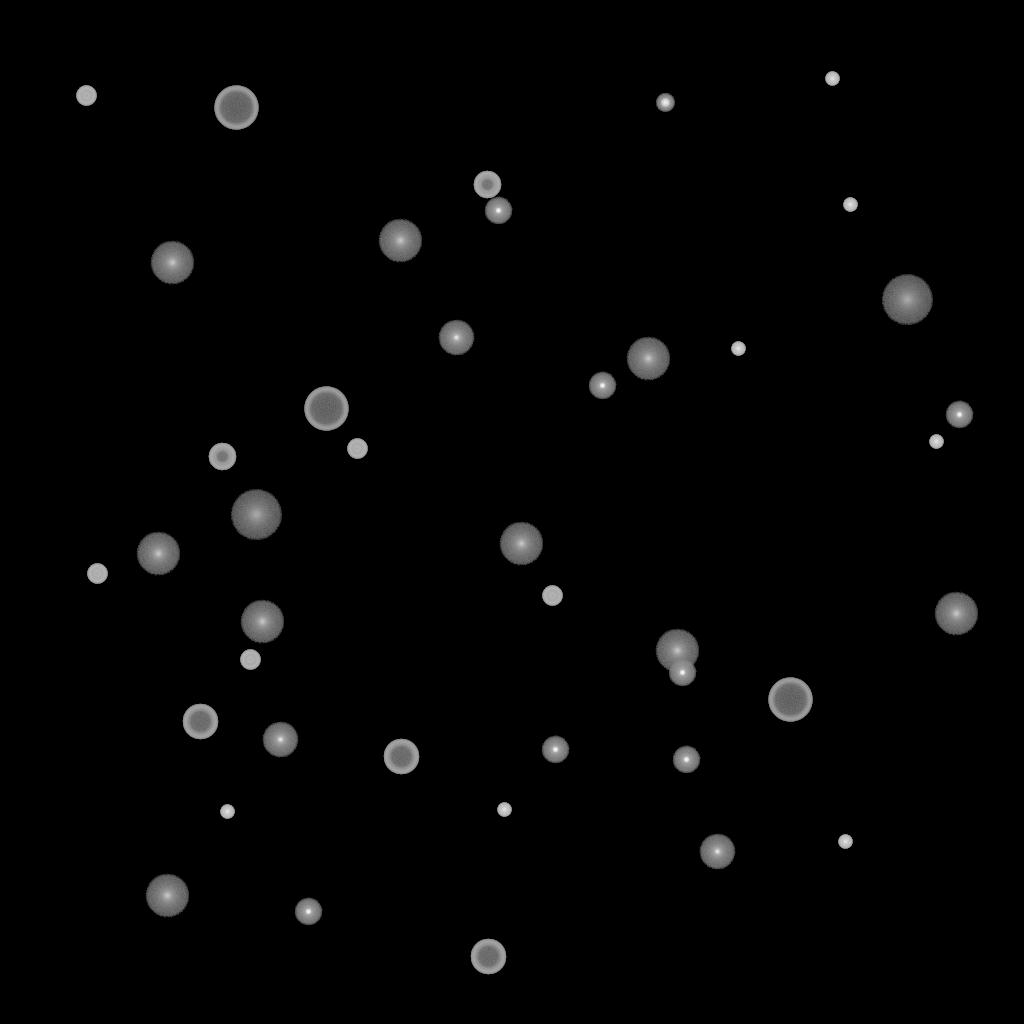depth:-10: (672, 746, 700, 774), (294, 898, 322, 926), (668, 659, 696, 687), (541, 736, 569, 764), (945, 401, 973, 429), (484, 197, 512, 225), (588, 372, 616, 400)
depth:-20: (656, 94, 674, 112)
depth:-30: (497, 803, 511, 817), (843, 198, 857, 212), (220, 805, 234, 819), (838, 835, 852, 849), (825, 72, 839, 86), (929, 435, 943, 449), (731, 342, 745, 356)
depth:-40: (240, 650, 260, 670), (76, 86, 96, 106), (542, 586, 562, 606), (87, 564, 107, 584), (347, 439, 367, 459)
depth:-50: (473, 171, 501, 199), (208, 443, 236, 471)
depth:-60: (383, 739, 419, 775), (182, 704, 218, 740), (470, 939, 506, 975)
depth:-70: (214, 86, 258, 130), (768, 678, 812, 722), (304, 387, 348, 431)
depth:0: (262, 722, 298, 758), (699, 834, 735, 870), (438, 320, 474, 356)
depth:10: (136, 532, 180, 576), (626, 337, 670, 381), (378, 219, 422, 263), (655, 629, 699, 673), (145, 874, 189, 918), (150, 241, 194, 285), (499, 522, 543, 566), (240, 600, 284, 644), (934, 592, 978, 636)
depth:20: (230, 490, 282, 540), (881, 275, 933, 325)
